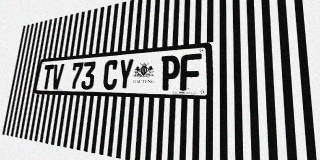3: (81, 61, 96, 90)
7: (69, 62, 84, 89)
C: (102, 59, 119, 90)
F: (180, 53, 202, 91)
P: (160, 55, 180, 91)
T: (41, 64, 54, 89)
V: (51, 64, 64, 89)
Y: (117, 58, 134, 90)
